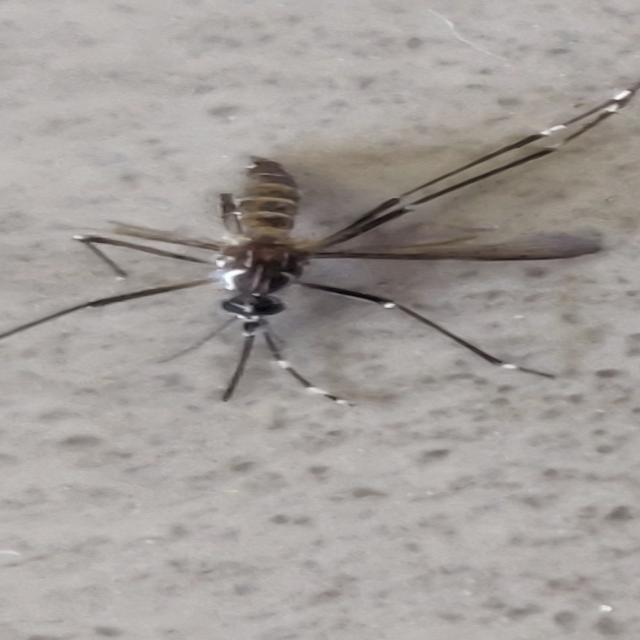aegypti: (26, 82, 619, 422)
